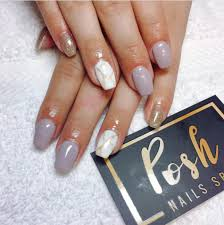nail: (54, 139, 79, 176), (94, 128, 118, 159), (132, 66, 154, 96), (94, 59, 116, 89), (34, 120, 55, 151), (152, 41, 174, 68), (58, 31, 79, 58), (148, 100, 164, 128), (35, 25, 48, 52)
